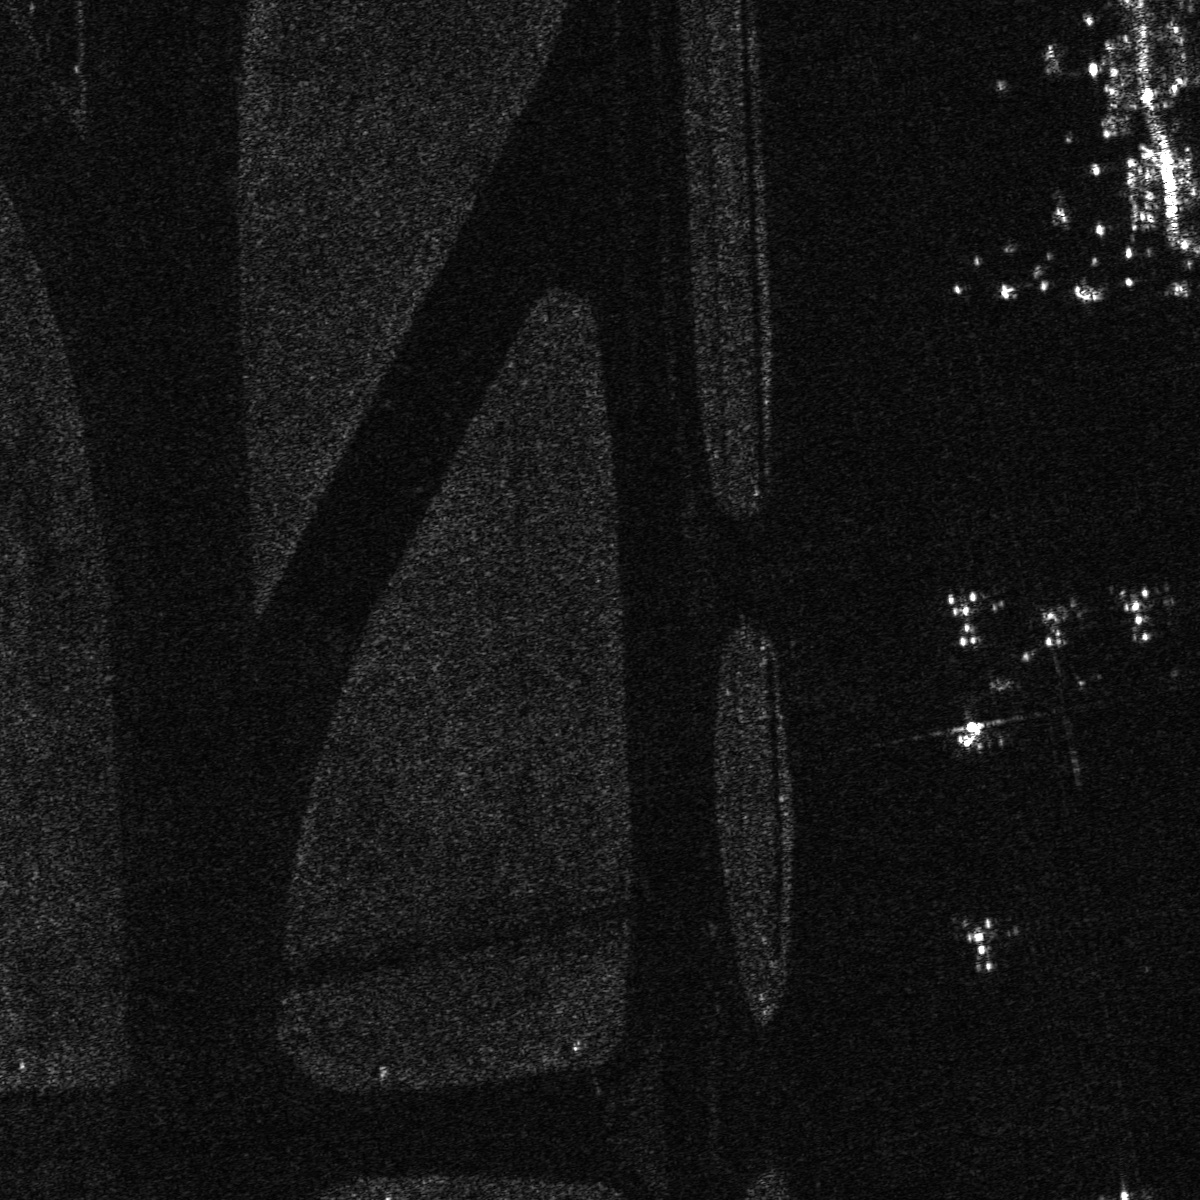ARJ21: (947, 919, 1012, 980), (938, 703, 1005, 757)
other: (932, 584, 1011, 652), (1110, 579, 1177, 647), (1026, 595, 1096, 657)
